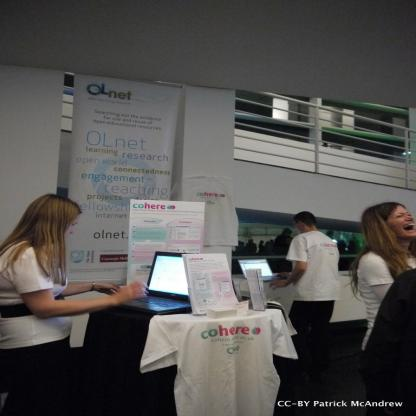board: (121, 251, 192, 314), (235, 258, 286, 282)
